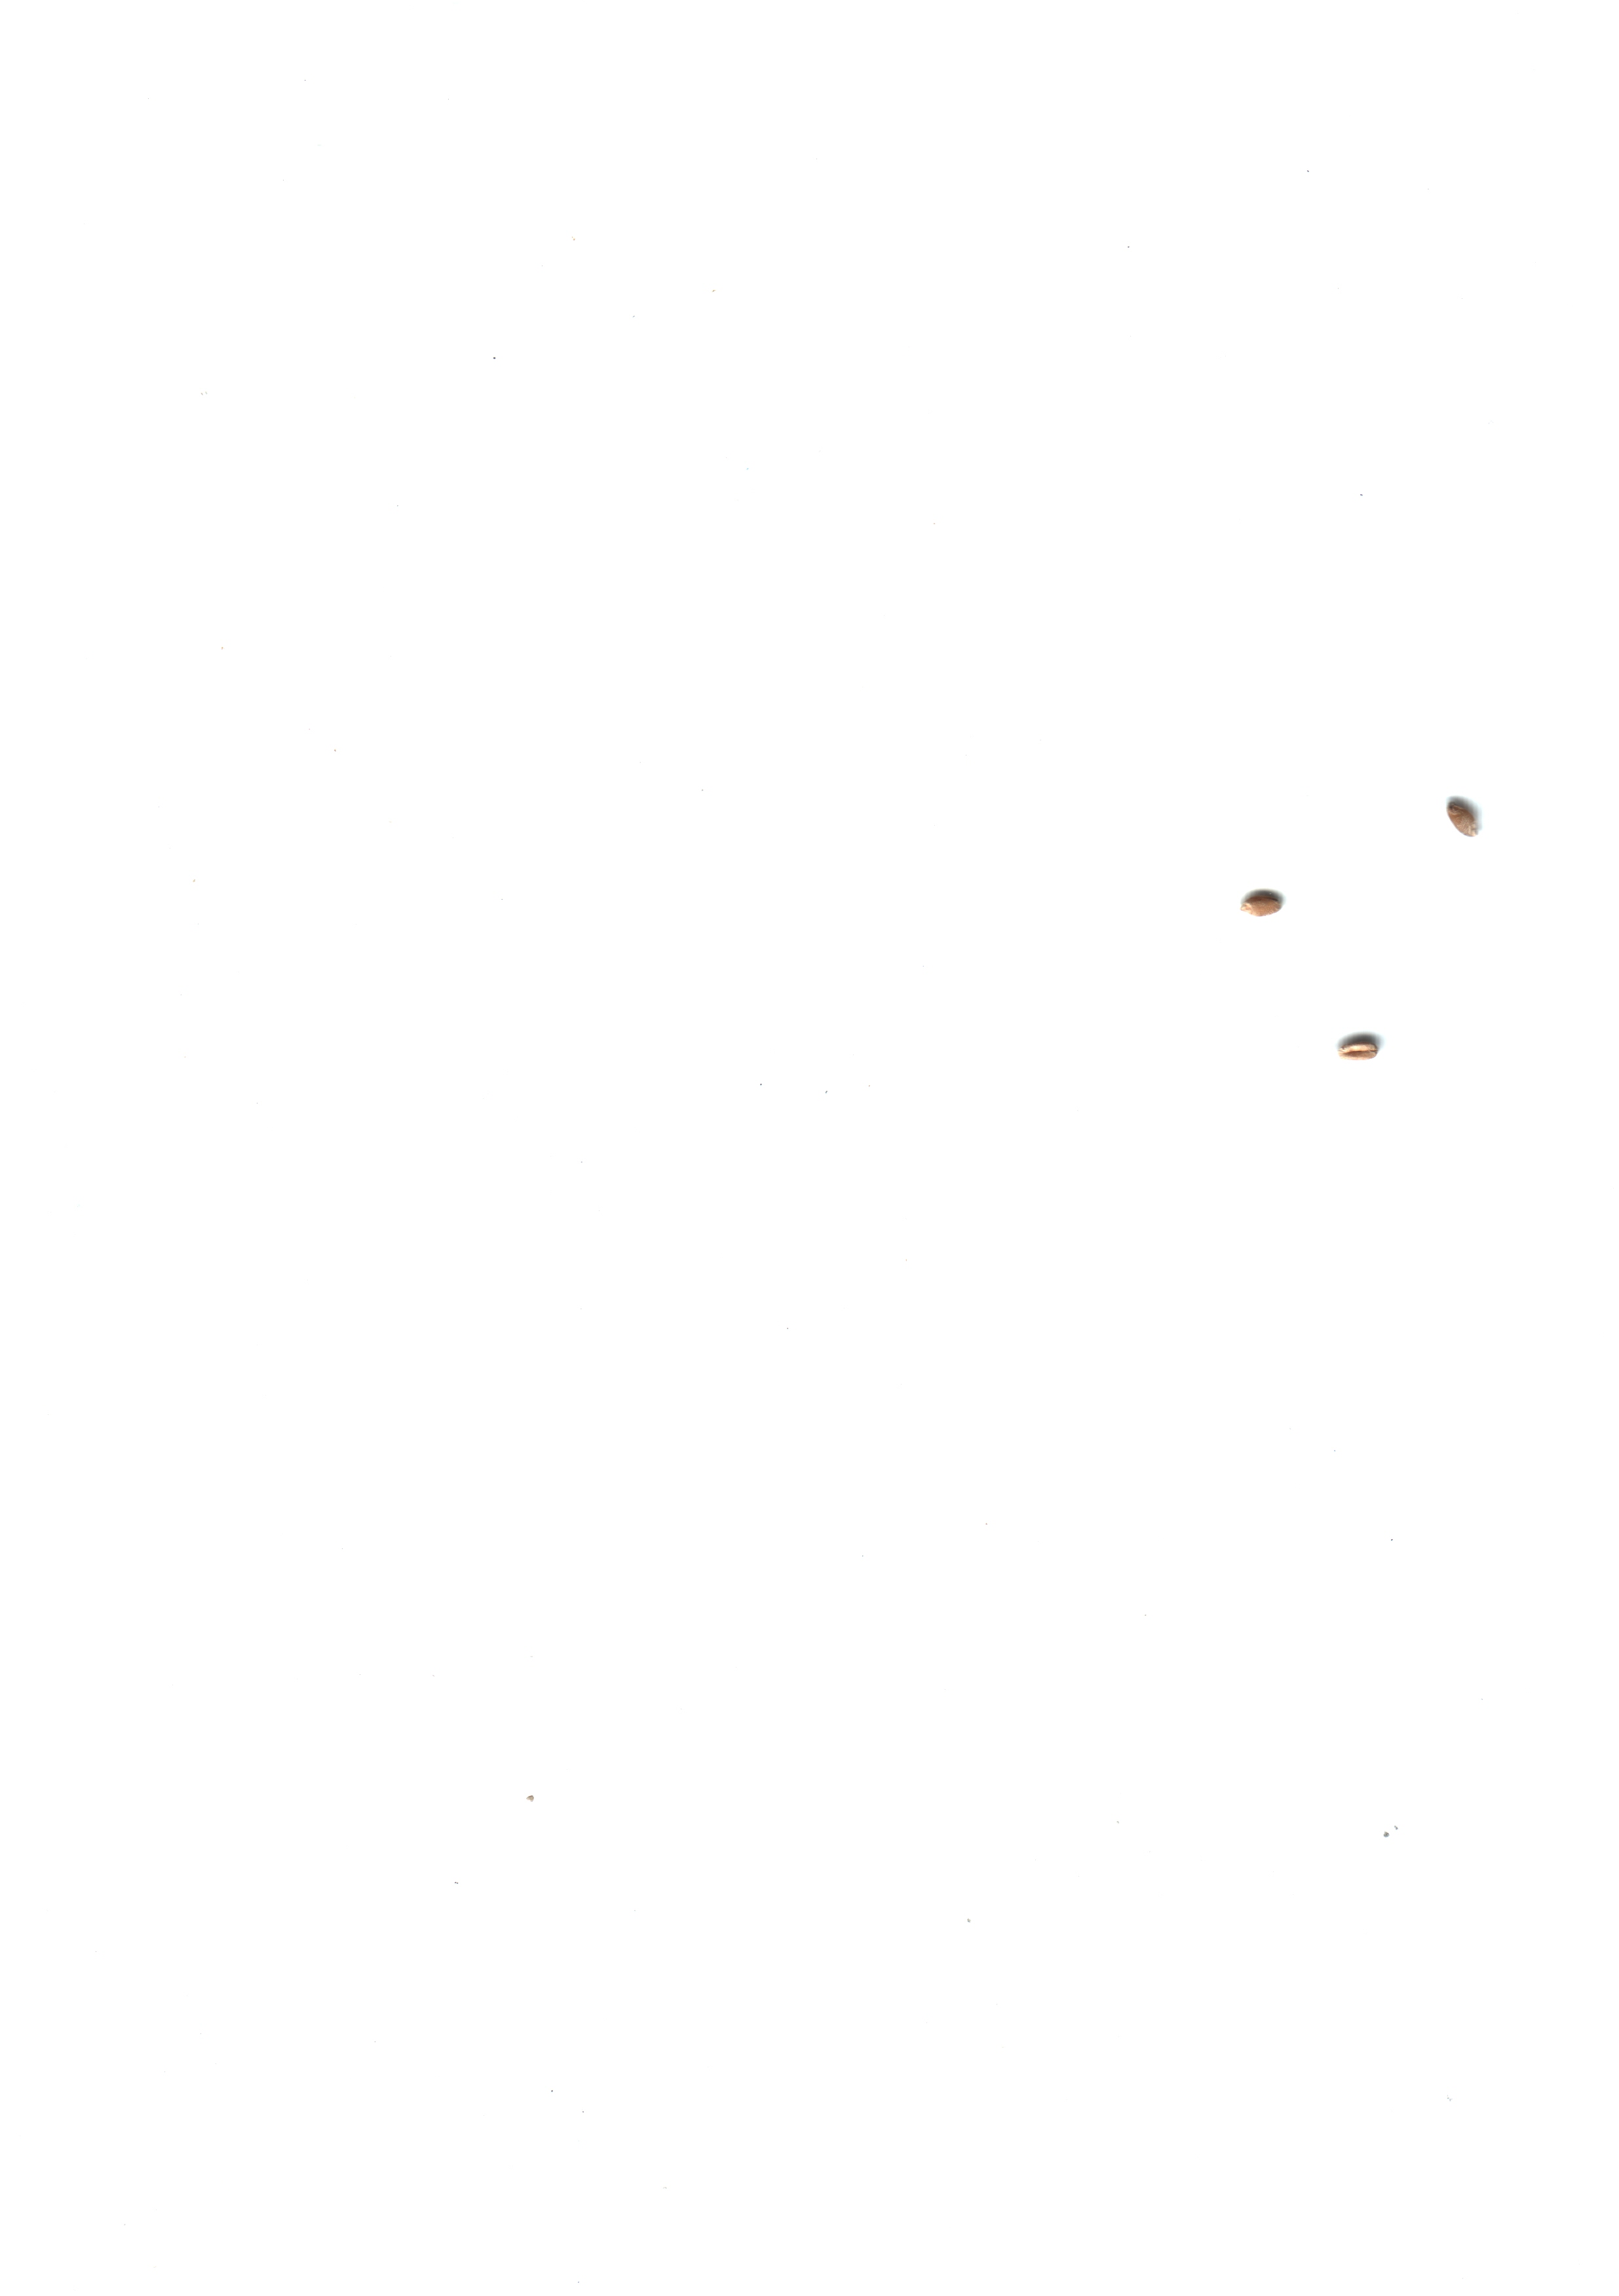grains_2_5mm: (1227, 855, 1309, 943), (1318, 1003, 1398, 1092), (1418, 771, 1498, 861)
